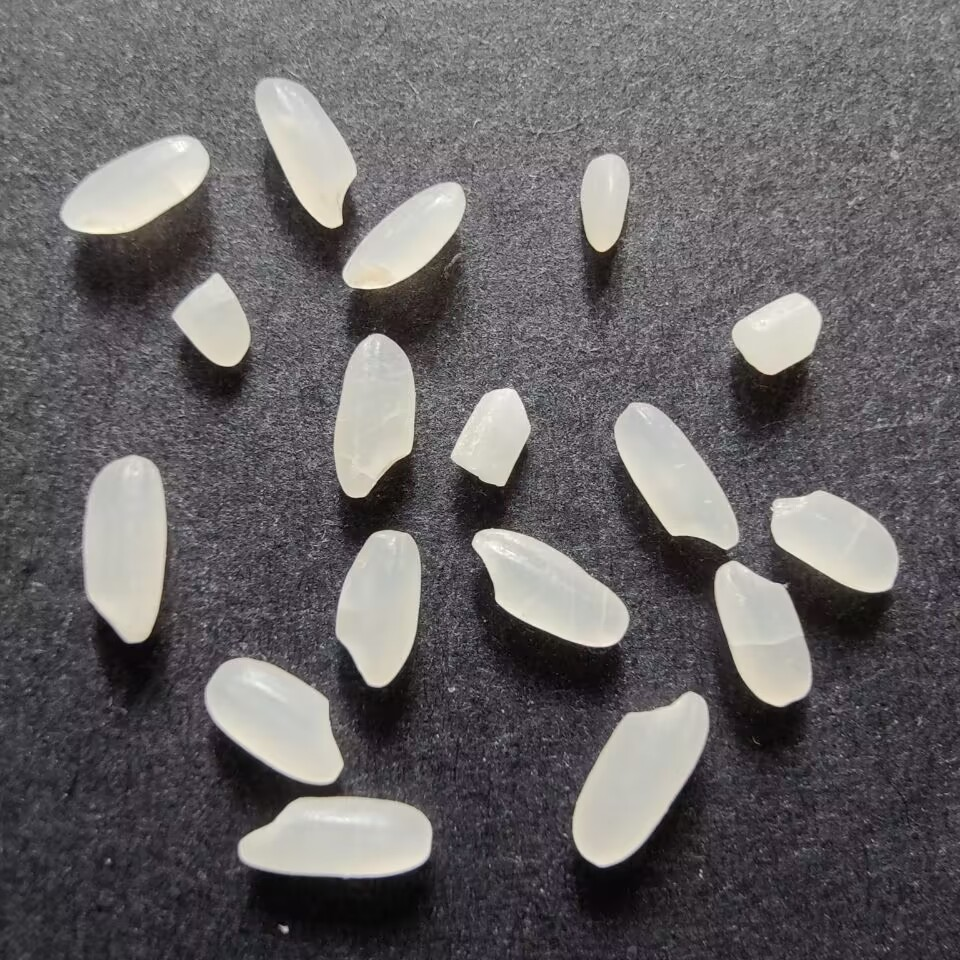broken: (726, 287, 825, 379), (447, 386, 534, 490), (166, 271, 256, 371), (573, 149, 631, 257)
rice: (563, 684, 712, 869), (463, 523, 633, 649), (197, 654, 346, 791), (611, 398, 742, 552), (246, 74, 362, 235), (231, 795, 438, 884), (77, 453, 171, 647), (55, 131, 213, 242), (326, 328, 423, 501), (335, 179, 471, 292), (710, 558, 811, 708), (329, 528, 423, 689), (769, 488, 904, 598)
